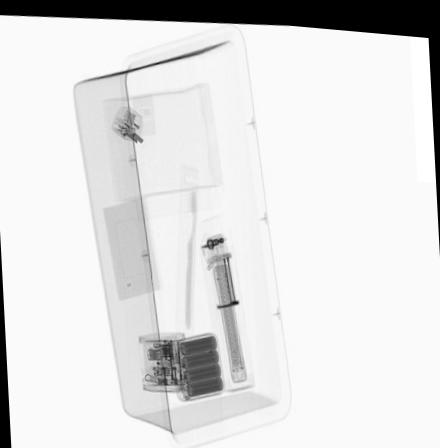Powerbank: (170, 326, 226, 401)
